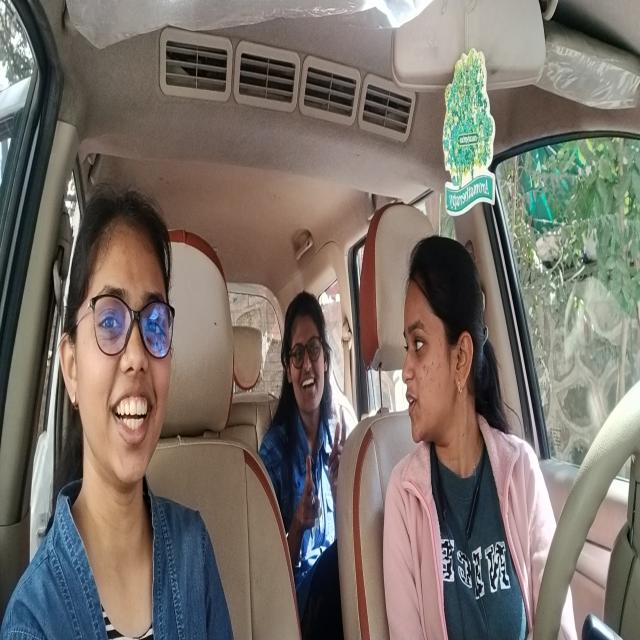LeftRight: (401, 232, 490, 469)
person: (59, 186, 177, 494), (284, 289, 331, 427)
talking: (406, 382, 423, 424)
